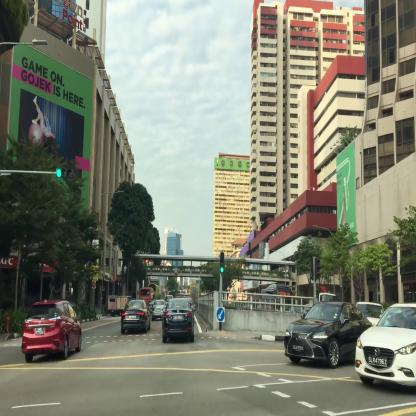green_traffic_light: (55, 169, 72, 179), (220, 252, 224, 272)
